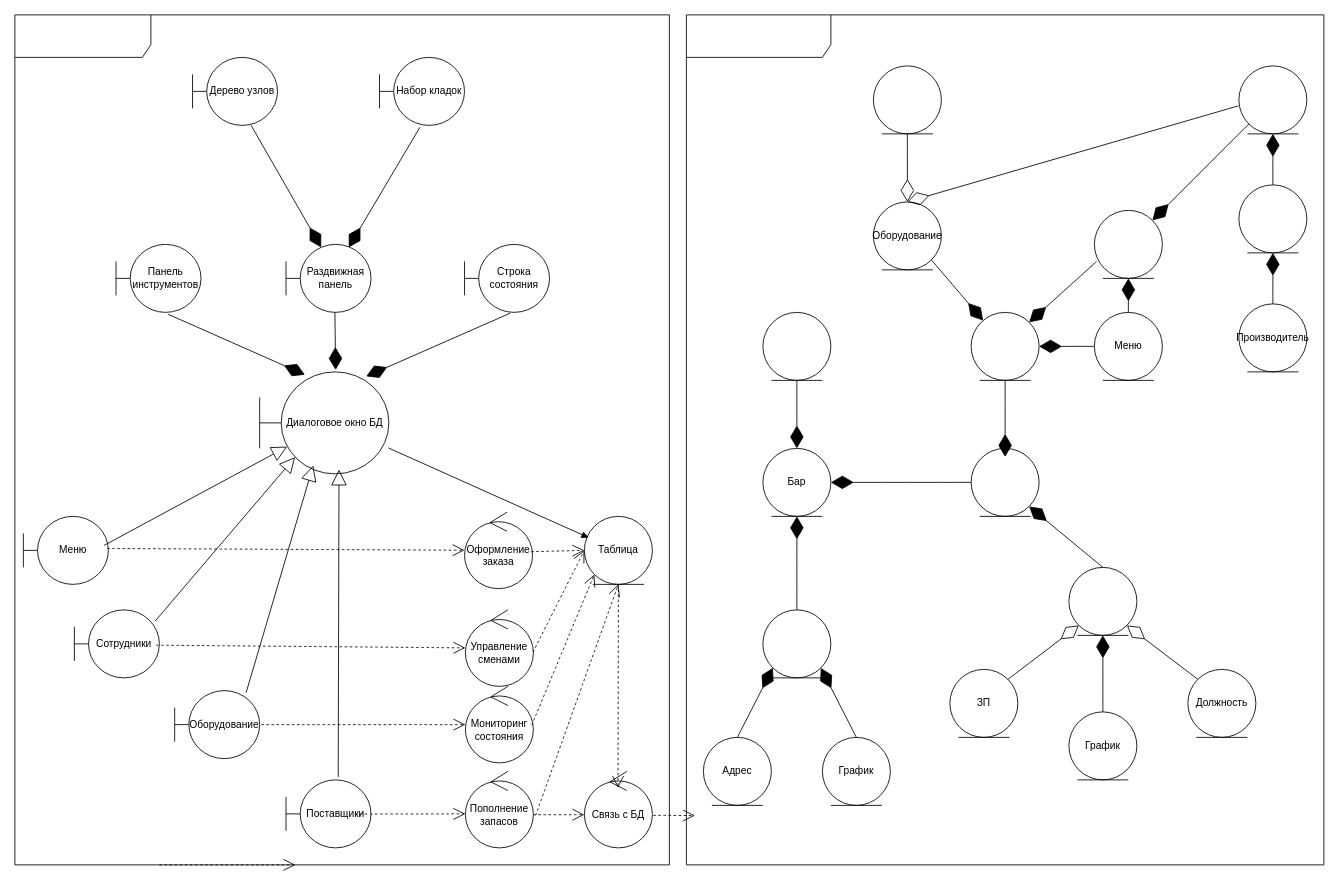
Some shapes in this 1339 by 886 pixel diagram are drawn without their labels. The box of each missing label's shape, as (x1, y1, x2, y2) in pixels:
БД: (686, 14, 1324, 865)
Заказ: (970, 448, 1039, 516)
Ингредиенты: (1094, 210, 1162, 278)
КЛИЕНТСКОЕ ПО: (14, 14, 669, 865)
Поставщик: (1238, 184, 1307, 253)
Склад: (1238, 65, 1307, 134)
Сотрудник: (1068, 567, 1137, 635)
Тип оборудования: (873, 65, 941, 134)
Товар: (970, 312, 1039, 380)
Устав: (762, 312, 831, 380)
Филиал: (762, 609, 831, 678)
